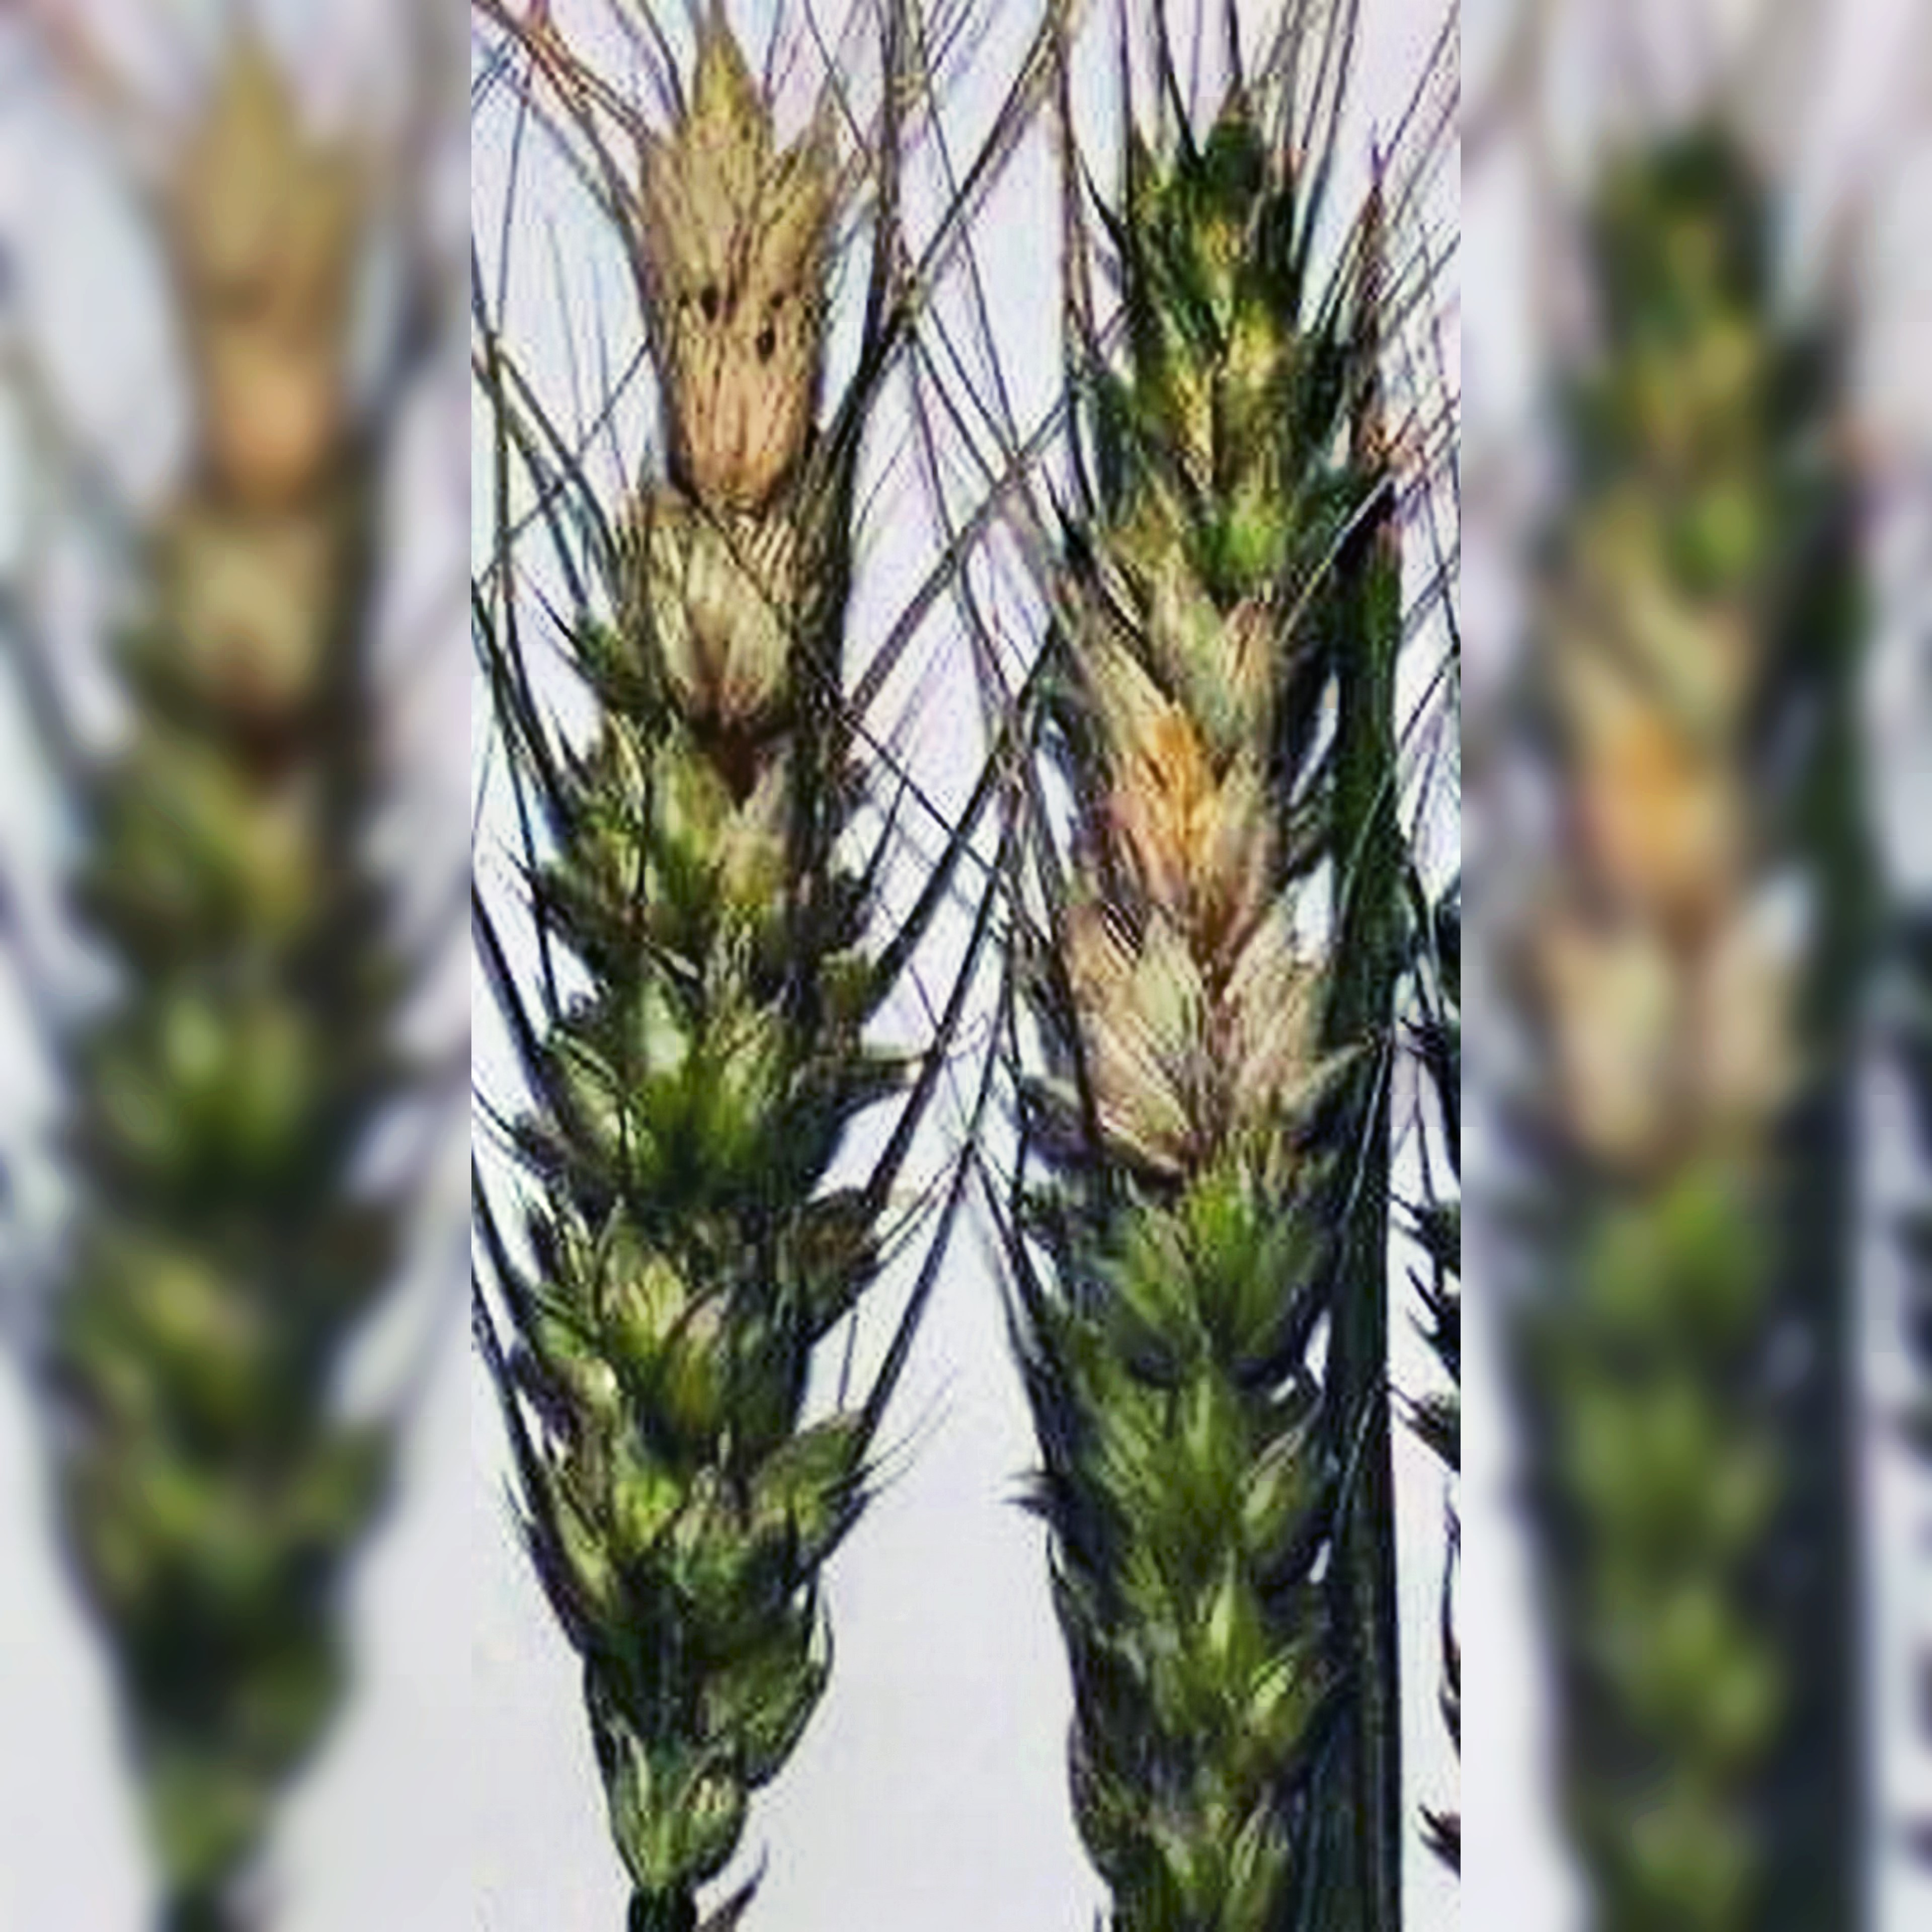Wheat scab: (973, 119, 1461, 1877), (472, 108, 902, 1867)
